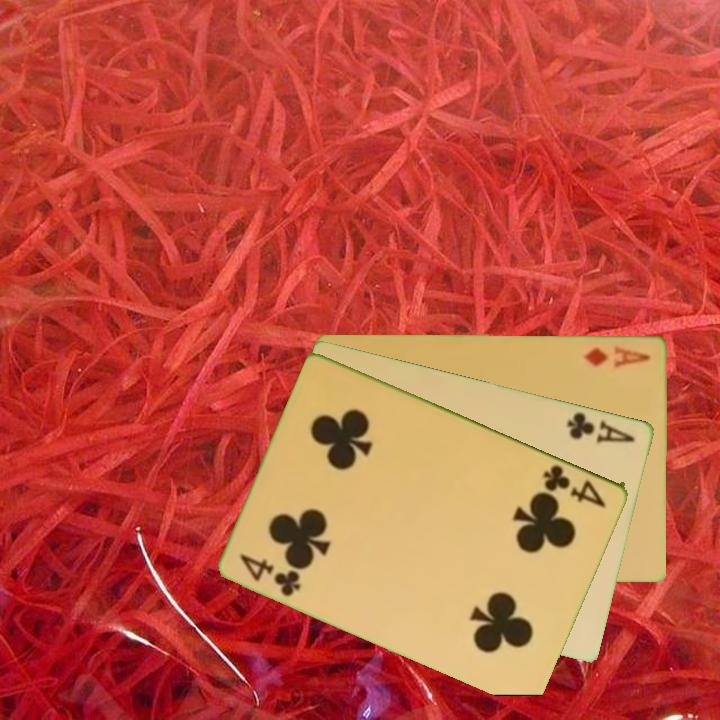4c: (540, 461, 610, 510), (237, 550, 304, 599)
Ac: (564, 408, 638, 446)
Ad: (580, 342, 654, 370)
